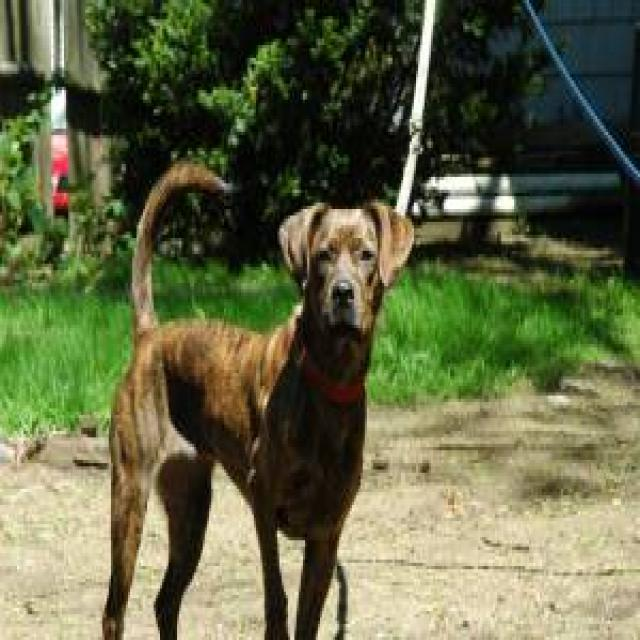dog-american_pit_bull_terrier: (85, 148, 416, 634)
